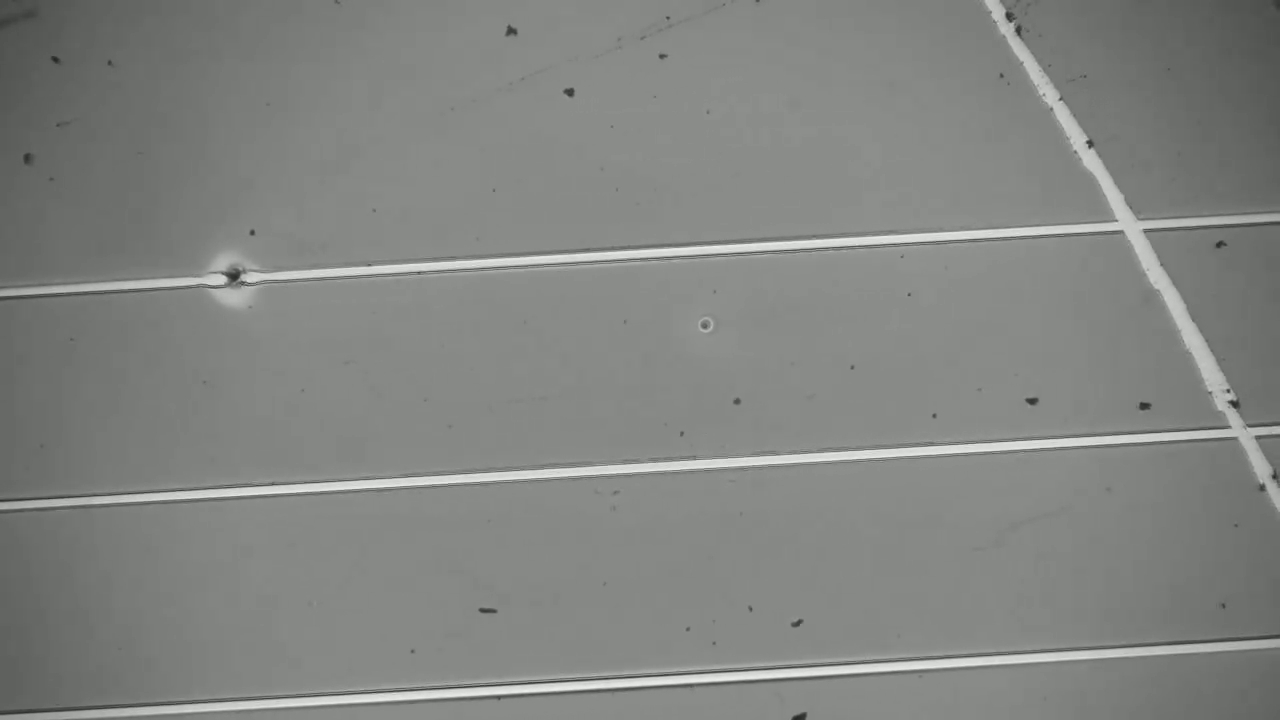stains_enbedded: (206, 256, 259, 309)
